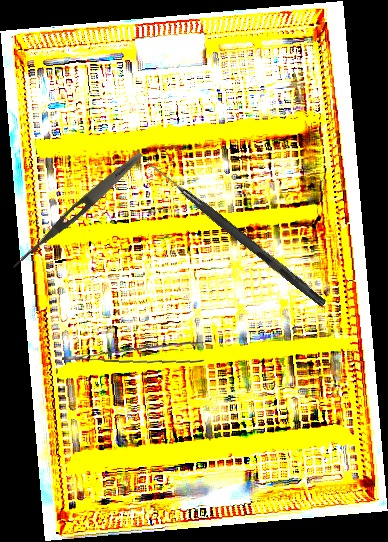Dressing Forceps: (9, 148, 146, 274)
Hook Surgical: (143, 159, 329, 308)
Tissue Forceps: (61, 332, 206, 370)
